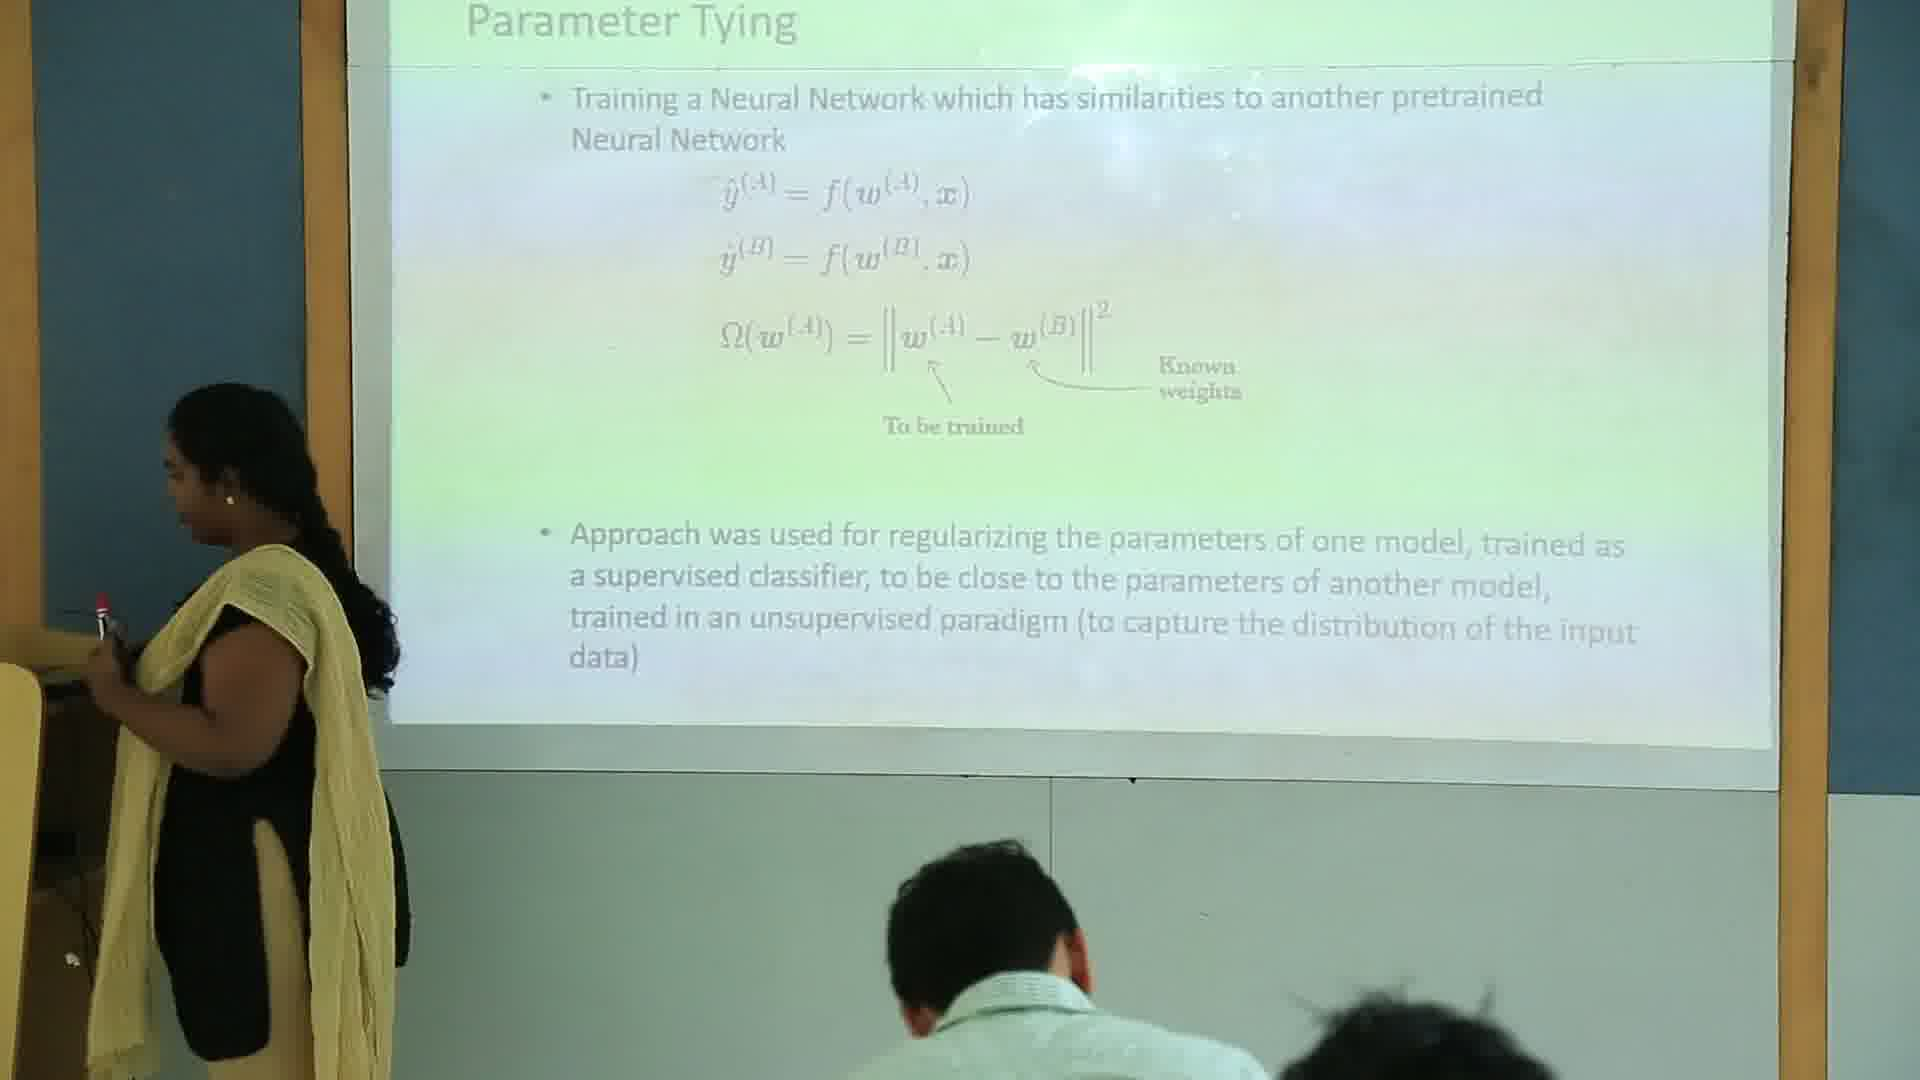eq: (719, 301, 1118, 381), (717, 228, 978, 293), (713, 166, 975, 214)
